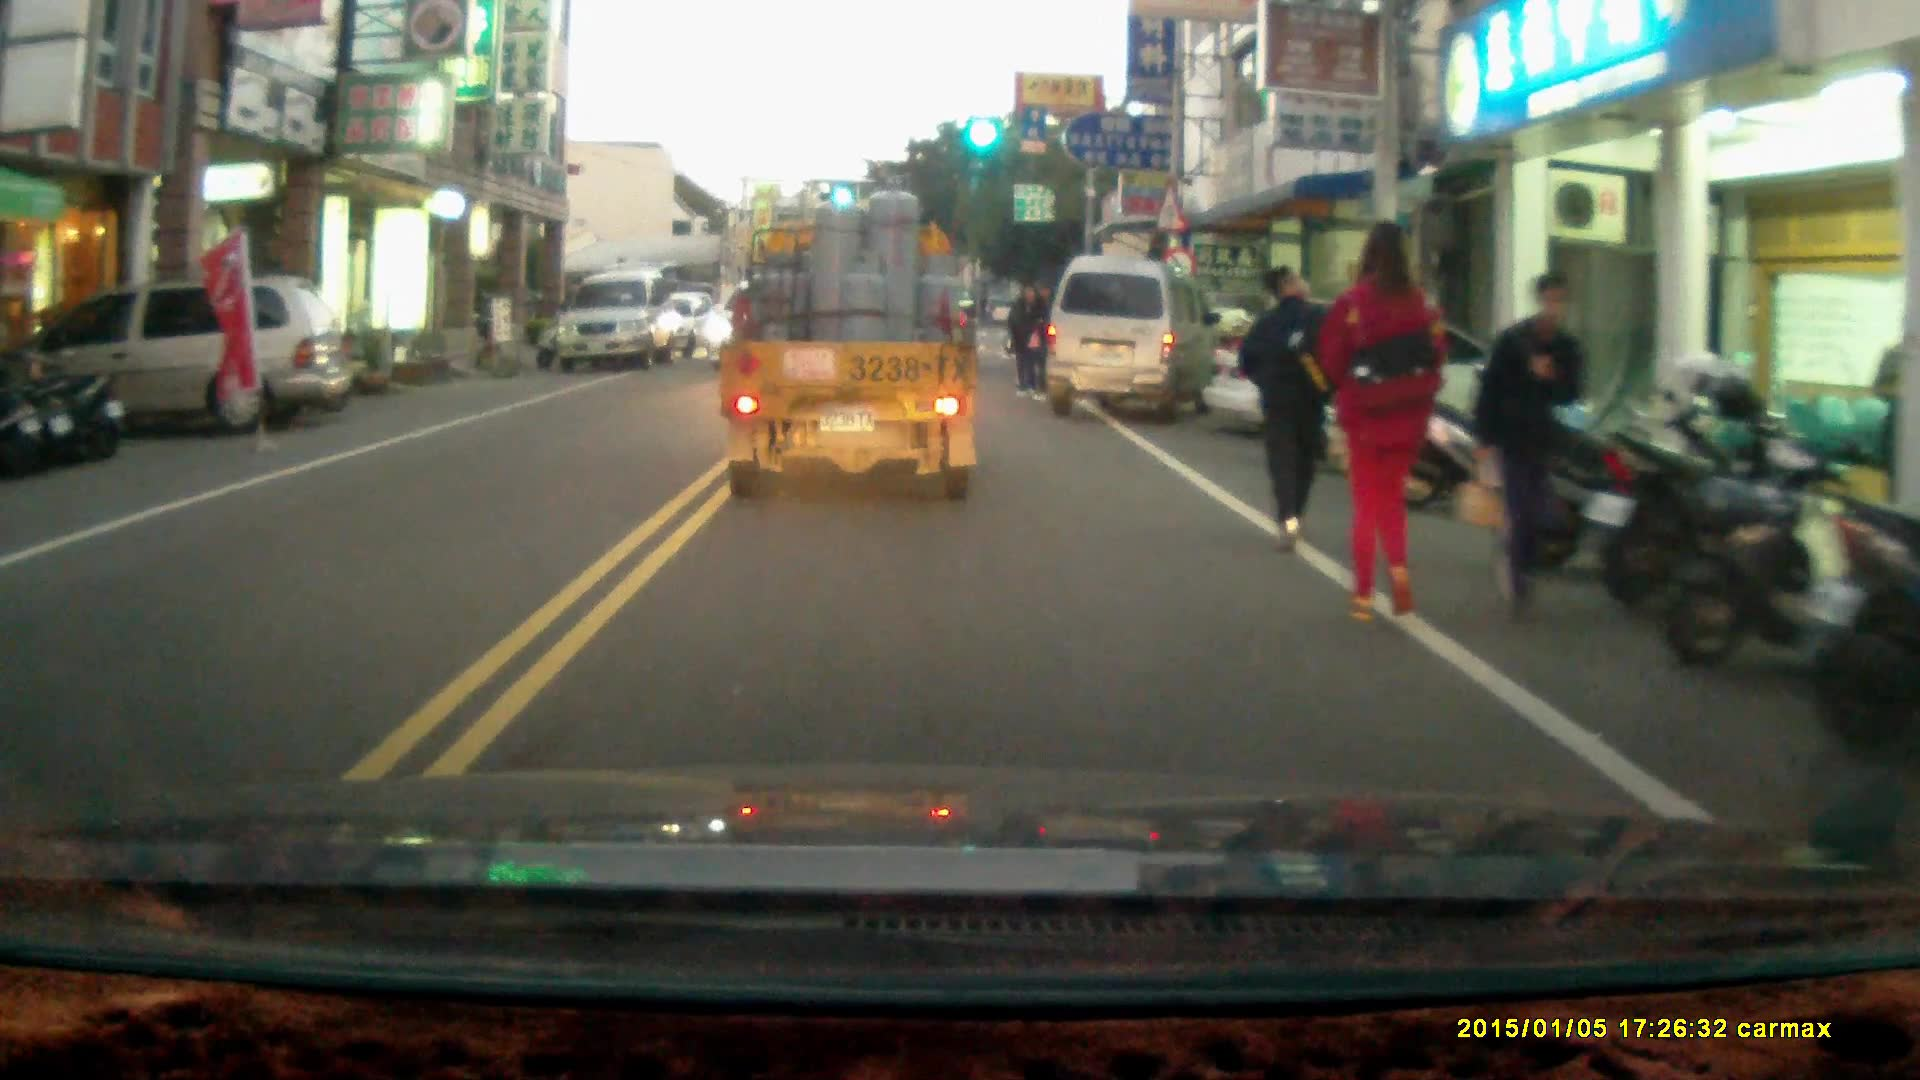pedestrian: (1316, 218, 1446, 620), (1474, 273, 1587, 632), (1237, 265, 1340, 556), (1005, 281, 1041, 398)
vehicle: (717, 170, 987, 510), (21, 276, 359, 444), (1046, 254, 1215, 420), (559, 271, 686, 376)
